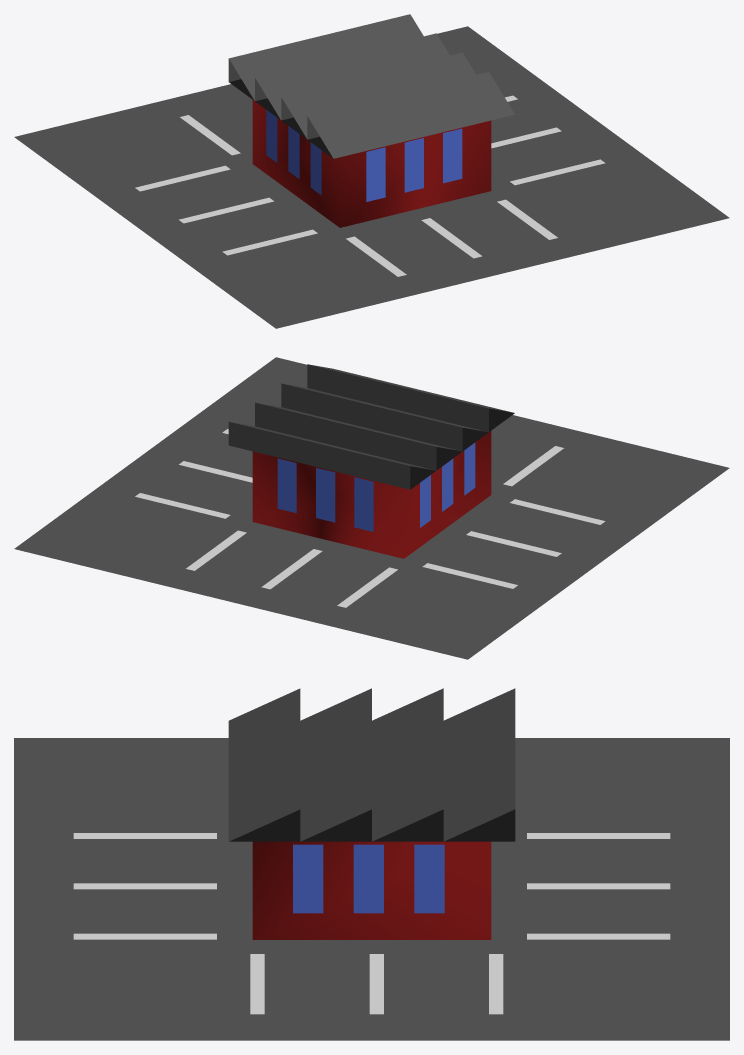
File: warehouse.obj
3 views of the same model, one above another, from view 1: azimuth 30°, elevation 25°; view 2: azimuth 150°, elevation 25°; view 3: azimuth 270°, elevation 25° (orthographic). The views are drawn at different scales.
Parts seen in each view (by area): view 1: floor, roof, walls, windows, lines.002, lines, lines.001, roof.001, roofWall; view 2: floor, roofWall, walls, windows, roof, lines.002, lines.003, roof.001, lines.001, lines; view 3: floor, roof, walls, windows, roof.001, lines, lines.003, lines.001.
Boxes of the visible parts, x1,y1,x2,y2 form: floor: (14, 26, 729, 328); roof: (229, 14, 514, 158); walls: (252, 100, 491, 227); windows: (266, 110, 462, 201); lines.002: (135, 165, 317, 255); lines: (346, 199, 557, 276); lines.001: (491, 95, 605, 185); roof.001: (229, 79, 333, 158); roofWall: (228, 58, 319, 139); floor: (14, 357, 729, 659); roofWall: (228, 364, 488, 489); walls: (252, 431, 491, 558); windows: (277, 442, 475, 531); roof: (230, 364, 512, 470); lines.002: (422, 499, 605, 588); lines.003: (186, 530, 397, 607); roof.001: (410, 408, 514, 489); lines.001: (135, 429, 252, 518); lines: (503, 446, 563, 486); floor: (14, 738, 729, 1040); roof: (228, 688, 515, 841); walls: (252, 841, 491, 939); windows: (293, 844, 444, 913); roof.001: (229, 809, 515, 841); lines: (73, 833, 216, 939); lines.003: (527, 833, 670, 939); lines.001: (250, 954, 503, 1014).
Size of the model in its own units: 6 by 1.3 by 6.
